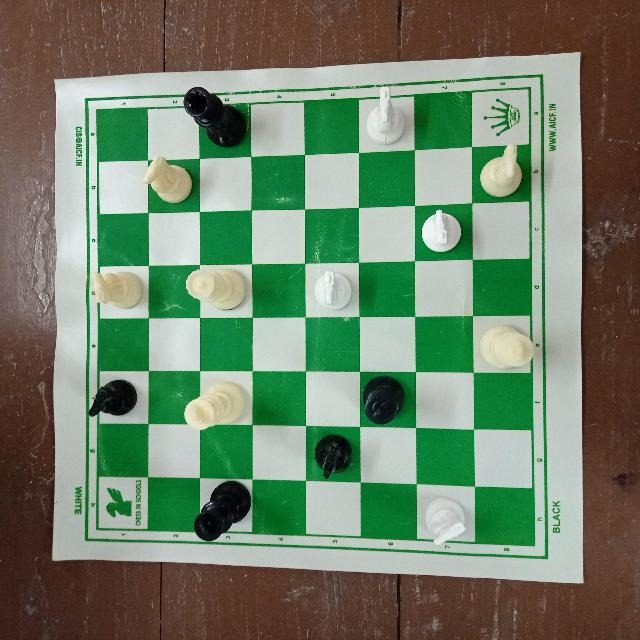black-king: (178, 81, 250, 151), (193, 472, 261, 544), (358, 371, 412, 427)
black-knight: (311, 428, 357, 483), (85, 378, 143, 418)
white-king: (177, 378, 249, 428), (475, 319, 539, 371)
white-knight: (360, 85, 414, 147), (419, 492, 471, 552), (141, 152, 196, 207), (476, 140, 529, 197), (90, 267, 148, 313), (415, 204, 466, 255), (307, 266, 357, 313)
white-queen: (184, 263, 250, 315)
